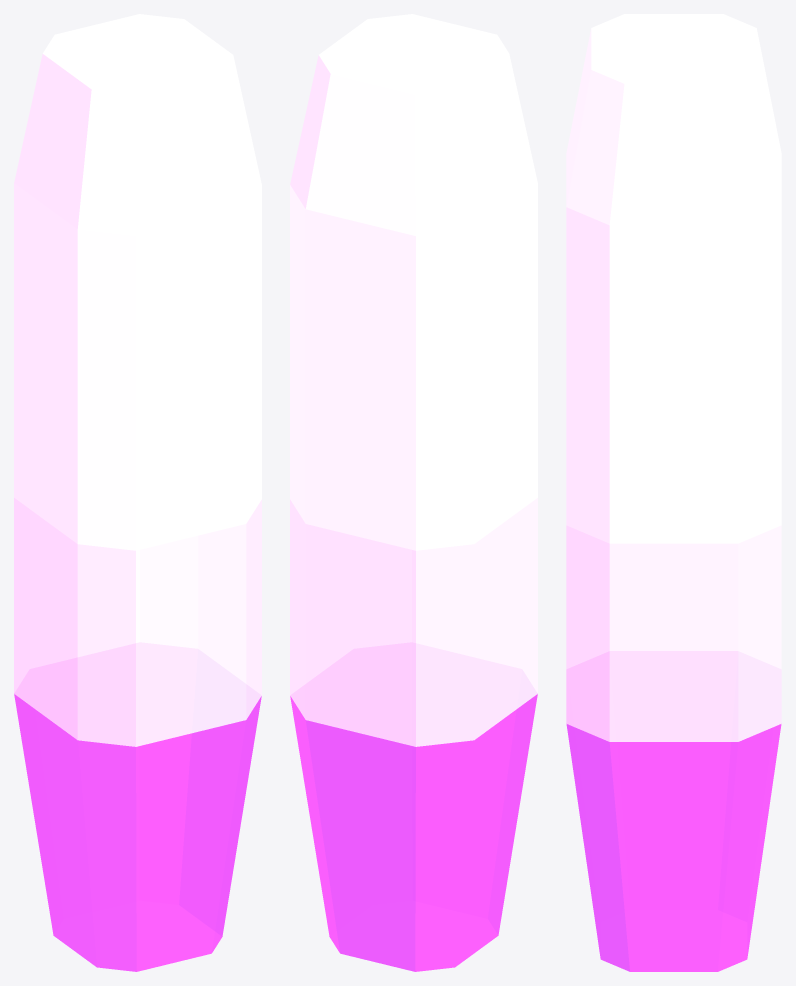
Rendered from HypLaser.fbx.
3 views of the same model, side by side, from view 1: azimuth 30°, elevation 25°; view 2: azimuth 150°, elevation 25°; view 3: azimuth 270°, elevation 25° (orthographic).
Parts seen in each view (by area): view 1: Laser; view 2: Laser; view 3: Laser.
Part boxes in pixels (x1,y1,x2,y2): Laser: [14, 14, 261, 971]; Laser: [290, 14, 537, 971]; Laser: [566, 14, 781, 971].
Bounding box in the file's own units: 24 × 24 × 110.
